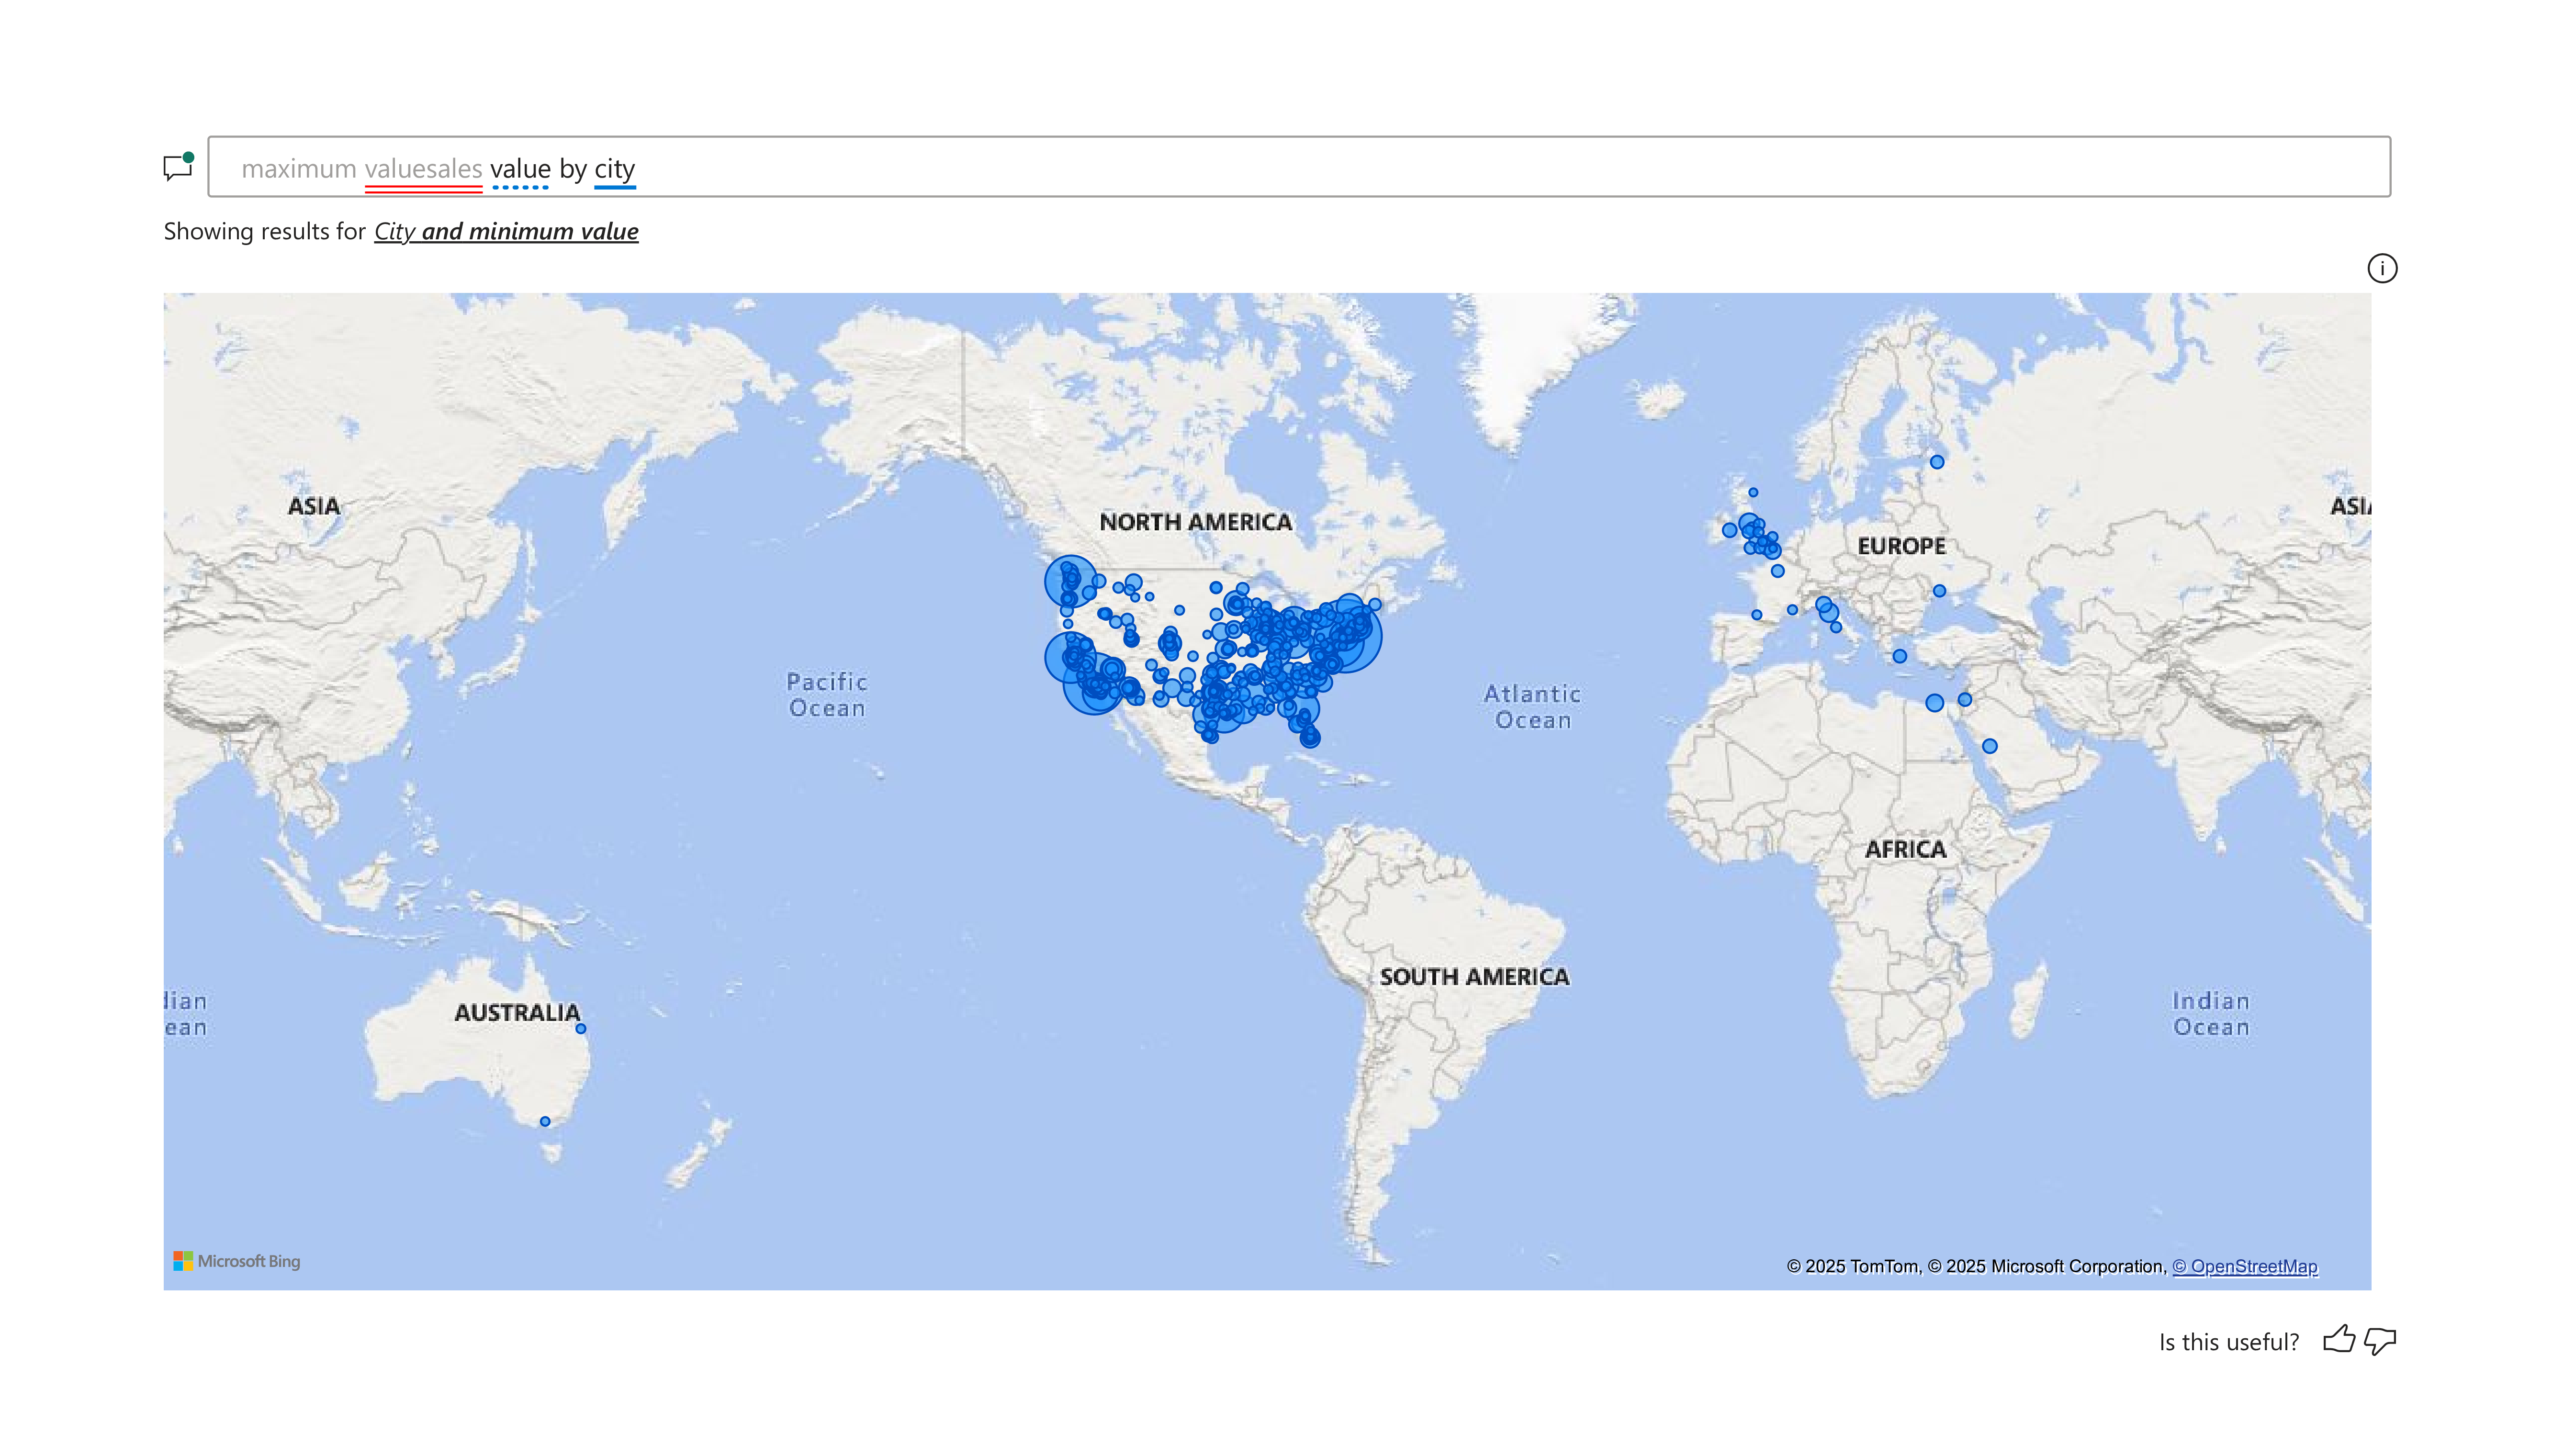

What the dashboard file says about the page in this screenshot:
{"tool":"powerbi","page":{"name":"Q&A","canvas":[1280,720],"ordinal":17},"visuals":[{"type":"qnaVisual","box":[73.3,38.3,1135,641.7],"z":0}]}

Visuals, with their boxes in screenshot pixels (x1, y1, x2, y2), scaled from the page's 1280x720 canvas onto the 2553x1456 screenshot:
qnaVisual: region(146, 78, 2410, 1375)
